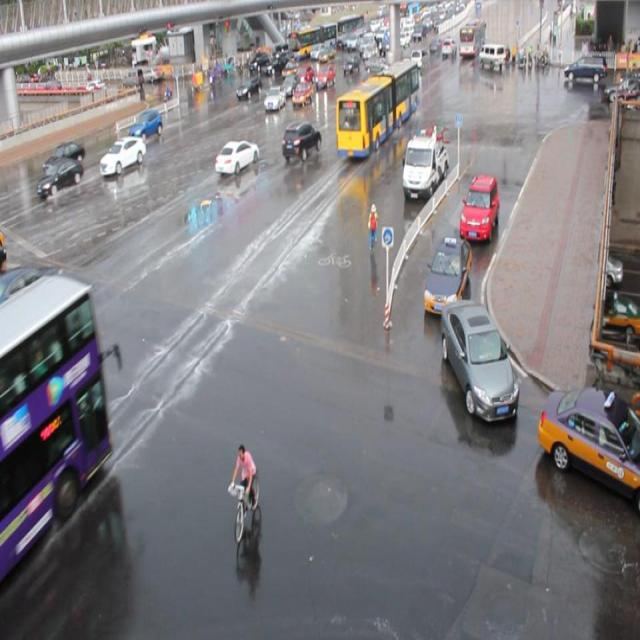bus: (401, 128, 448, 198)
car: (536, 386, 640, 508), (439, 297, 518, 422), (1, 269, 69, 328), (424, 234, 471, 315), (458, 173, 499, 242), (100, 135, 147, 174), (36, 158, 84, 196), (214, 139, 259, 174), (281, 122, 321, 160), (43, 139, 86, 172), (128, 108, 163, 142), (355, 79, 378, 105), (234, 77, 260, 100), (292, 81, 314, 107), (264, 85, 285, 111), (279, 73, 301, 96)
van: (1, 276, 113, 574), (333, 60, 419, 156)
